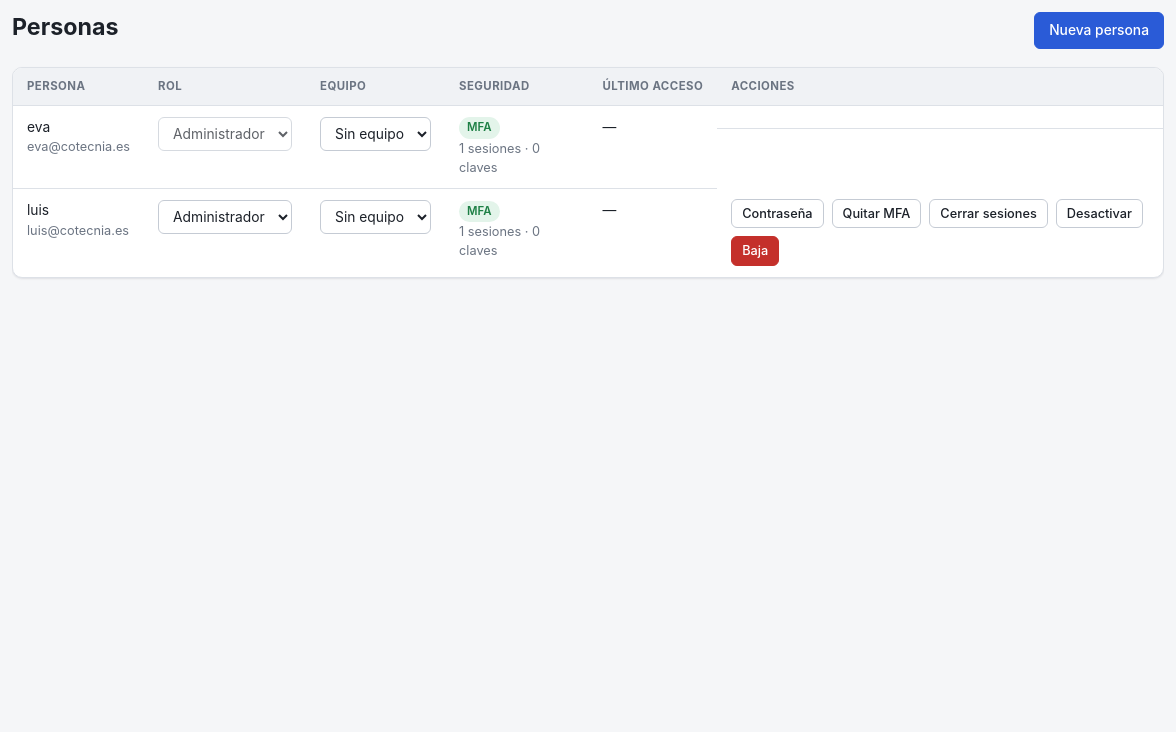
Test: personas › cerrar sesiones revoca también las claves personales
Click the button "Cerrar sesiones" at (989, 214), box 929,199 -> 1048,228
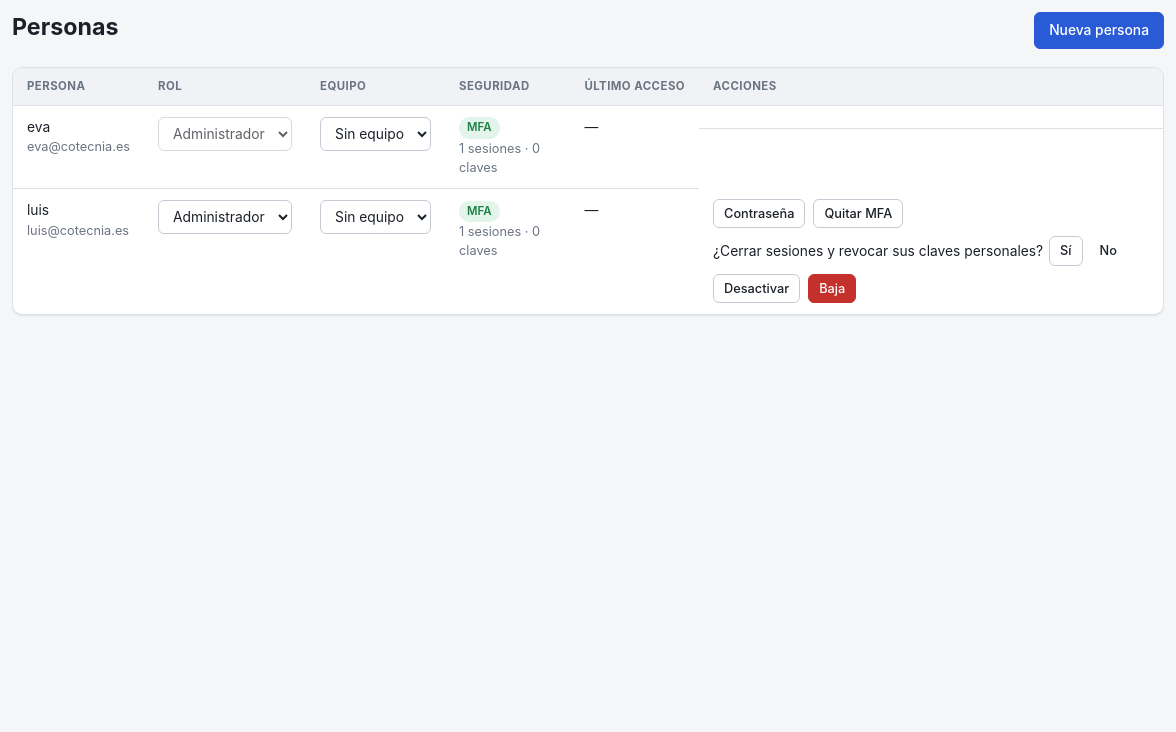
Click the button "Sí" at (1066, 251), box 1049,236 -> 1083,266
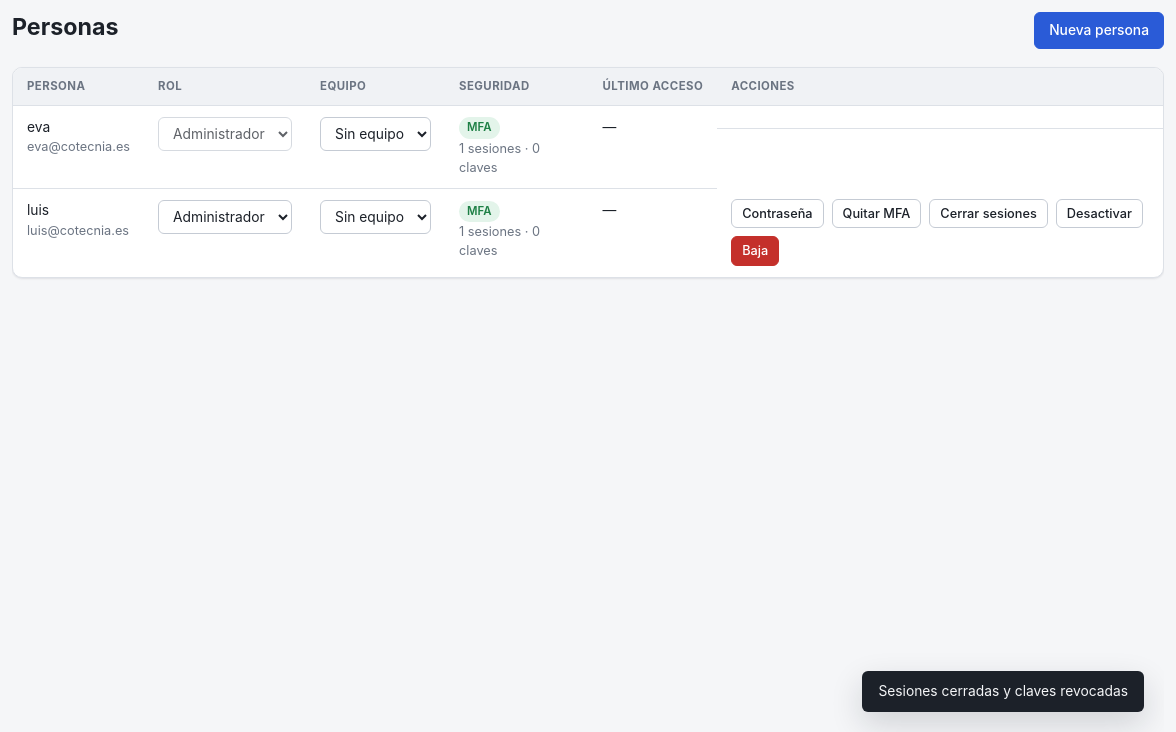
Expected: the text "Sesiones cerradas y claves revocadas" is shown, 862,671 -> 1144,712
